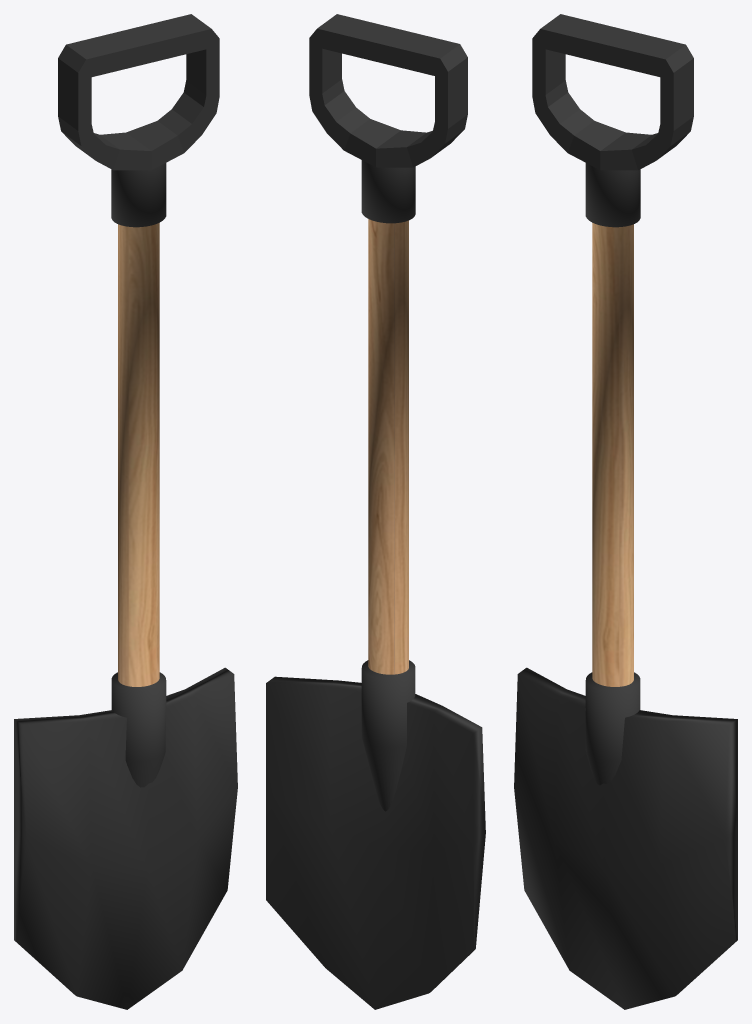
The model's file is shovel.glb.
3 renders of one model, left to right at view 1: azimuth 30°, elevation 25°; view 2: azimuth 150°, elevation 25°; view 3: azimuth 330°, elevation 25°, orthographic.
Visible parts, largest first — view 1: Schibbe, Stange, Griff; view 2: Schibbe, Stange, Griff; view 3: Schibbe, Stange, Griff.
Boxes of the visible parts, x1,y1,x2,y2 form: Schibbe: (14, 667, 237, 1009); Stange: (111, 163, 166, 787); Griff: (58, 14, 219, 170); Schibbe: (266, 676, 485, 1009); Stange: (361, 160, 415, 811); Griff: (309, 14, 467, 167); Schibbe: (514, 667, 737, 1009); Stange: (585, 163, 640, 785); Griff: (532, 14, 693, 170).
Bounding box in the file's own units: 2 × 8.88 × 0.5392.
Materials: 2 (1 with a texture image).
